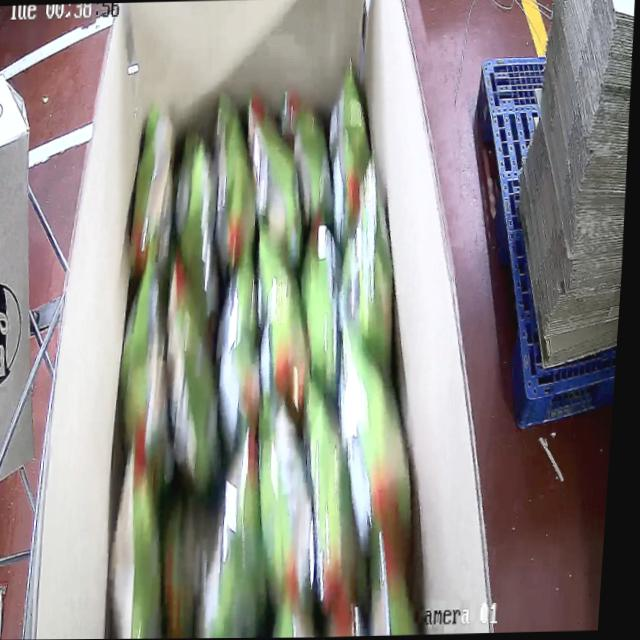YOGURT_HERB: (92, 58, 458, 639)
